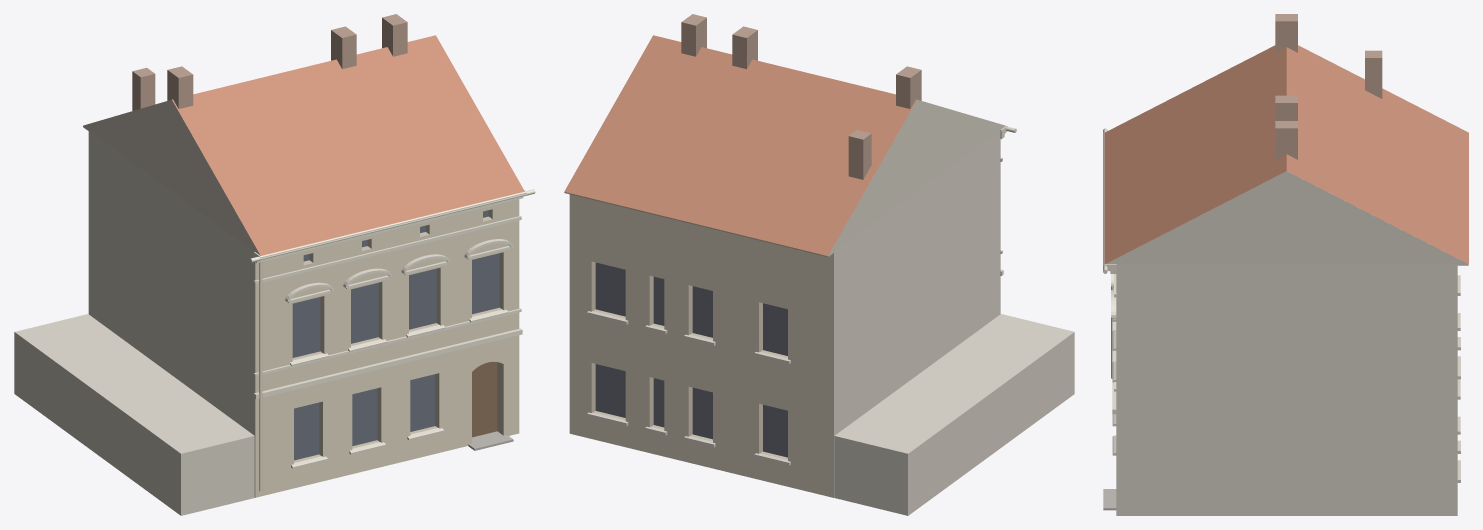
The picture shows the model from 3 angles, left to right: view 1: azimuth 30°, elevation 25°; view 2: azimuth 150°, elevation 25°; view 3: azimuth 270°, elevation 25°; orthographic projection. The views are drawn at different scales.
Parts seen in each view (by area): view 1: CP_281_Masonry, CP_281_Roof, CP_281_Corner_Terrace_Substructure, CP_281_Gable_L_gable, CP_281_Cornice_string_0, CP_281_Cornice_main_0, CP_281_Cornice_frieze_0, CP_281_Chimney_0, CP_281_Chimney_3, CP_281_Chimney_2, CP_281_Chimney_1, CP_281_Downpipe_0 (+2 smaller); view 2: CP_281_Masonry, CP_281_Roof, CP_281_Corner_Terrace_Substructure, CP_281_Gable_L_gable, CP_281_Chimney_1, CP_281_Chimney_2, CP_281_Chimney_3, CP_281_Chimney_0; view 3: CP_281_Masonry, CP_281_Roof, CP_281_Gable_R_gable, CP_281_Chimney_0, CP_281_Chimney_3, CP_281_Chimney_1, CP_281_Chimney_2.
Part boxes in pixels (x1,y1,x2,y2): CP_281_Masonry: (88, 130, 519, 497); CP_281_Roof: (172, 35, 524, 255); CP_281_Corner_Terrace_Substructure: (14, 314, 254, 515); CP_281_Gable_L_gable: (83, 99, 260, 255); CP_281_Cornice_string_0: (253, 328, 522, 399); CP_281_Cornice_main_0: (253, 190, 526, 262); CP_281_Cornice_frieze_0: (253, 215, 521, 284); CP_281_Chimney_0: (167, 66, 193, 108); CP_281_Chimney_3: (382, 14, 407, 56); CP_281_Chimney_2: (331, 26, 356, 68); CP_281_Chimney_1: (132, 67, 155, 110); CP_281_Downpipe_0: (259, 262, 262, 491); CP_281_Masonry: (569, 130, 1000, 497); CP_281_Roof: (564, 35, 916, 255); CP_281_Corner_Terrace_Substructure: (834, 314, 1074, 515); CP_281_Gable_L_gable: (821, 99, 1005, 256); CP_281_Chimney_1: (848, 130, 871, 179); CP_281_Chimney_2: (732, 26, 757, 69); CP_281_Chimney_3: (681, 14, 706, 56); CP_281_Chimney_0: (896, 66, 921, 108); CP_281_Masonry: (1116, 264, 1457, 515); CP_281_Roof: (1104, 45, 1468, 263); CP_281_Gable_R_gable: (1105, 171, 1468, 265); CP_281_Chimney_0: (1275, 14, 1297, 52); CP_281_Chimney_3: (1275, 121, 1297, 159); CP_281_Chimney_1: (1365, 50, 1382, 98); CP_281_Chimney_2: (1275, 95, 1297, 120).
Bounding box in the file's own units: 14.36 × 14.32 × 12.79.
